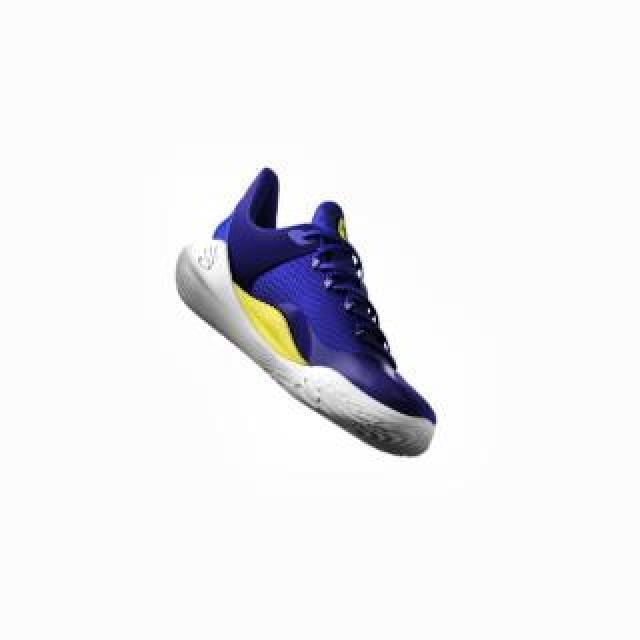shoes: (173, 168, 441, 456)
